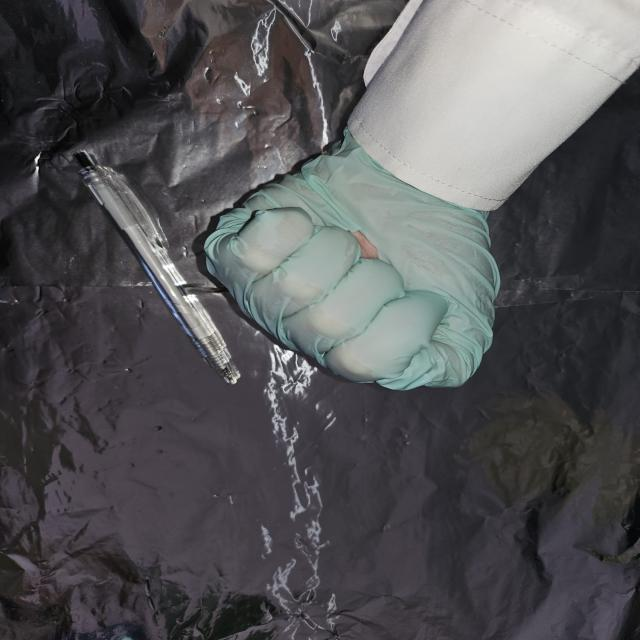gloves_damaged: (202, 124, 500, 390)
